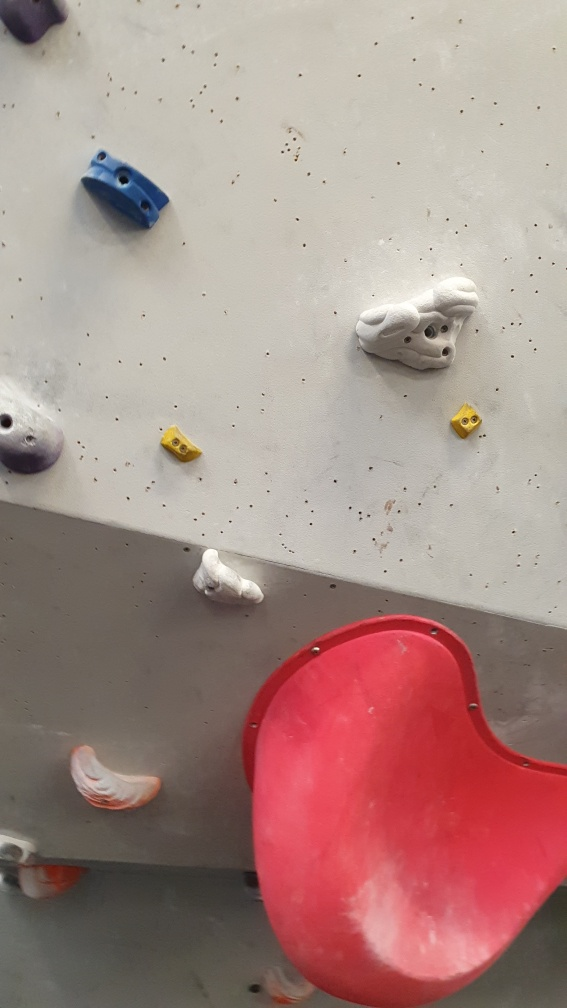Crimp: (156, 416, 205, 470)
Jug: (351, 273, 483, 377), (67, 739, 165, 810), (190, 542, 267, 617)
Pinch: (76, 145, 179, 235), (448, 400, 486, 445)
Sloper: (1, 373, 72, 478)
